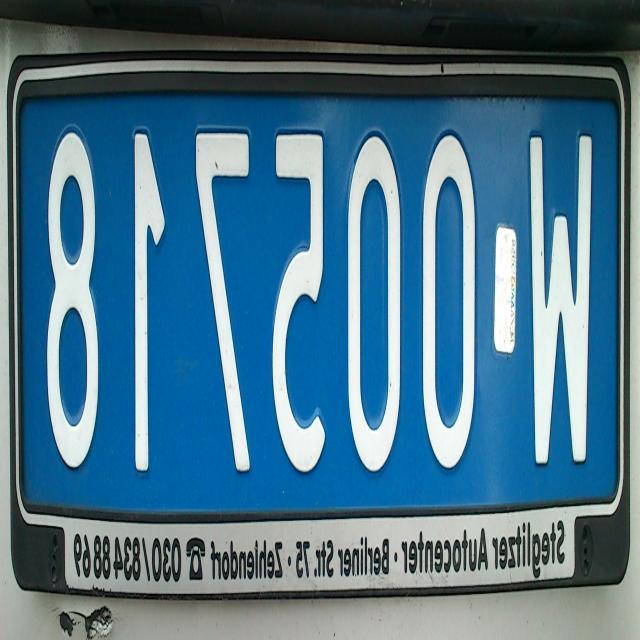pl_license_plate: (17, 78, 622, 514)
